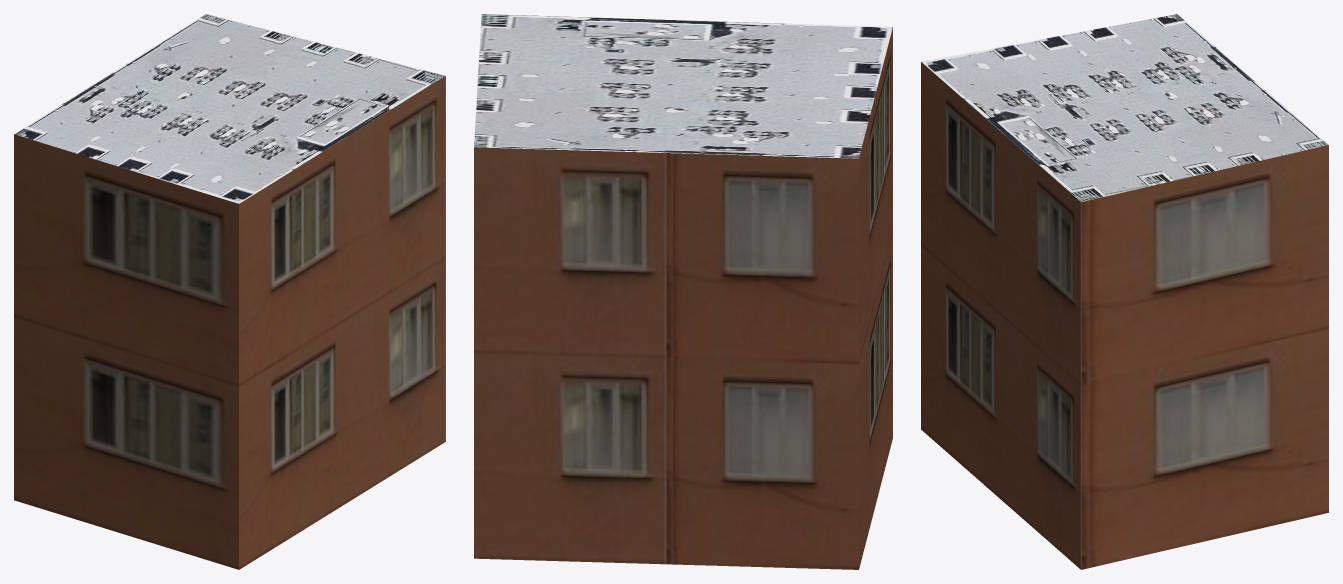
File: ResTex__1780.fbx
3 renders of one model, left to right at view 1: azimuth 30°, elevation 25°; view 2: azimuth 150°, elevation 25°; view 3: azimuth 270°, elevation 25°, orthographic. The views are drawn at different scales.
Parts seen in each view (by area): view 1: CityEngineMaterial_20_m, CityEngineMaterial_8_m; view 2: CityEngineMaterial_20_m, CityEngineMaterial_8_m; view 3: CityEngineMaterial_20_m, CityEngineMaterial_8_m.
Part boxes in pixels (x1,y1,x2,y2): CityEngineMaterial_20_m: [14, 76, 445, 569]; CityEngineMaterial_8_m: [14, 14, 445, 203]; CityEngineMaterial_20_m: [474, 27, 892, 569]; CityEngineMaterial_8_m: [474, 14, 892, 158]; CityEngineMaterial_20_m: [921, 62, 1328, 569]; CityEngineMaterial_8_m: [921, 14, 1328, 201].
Size of the model in its own units: 6.58 by 6 by 6.03.
Materials: 2 (2 with a texture image).
